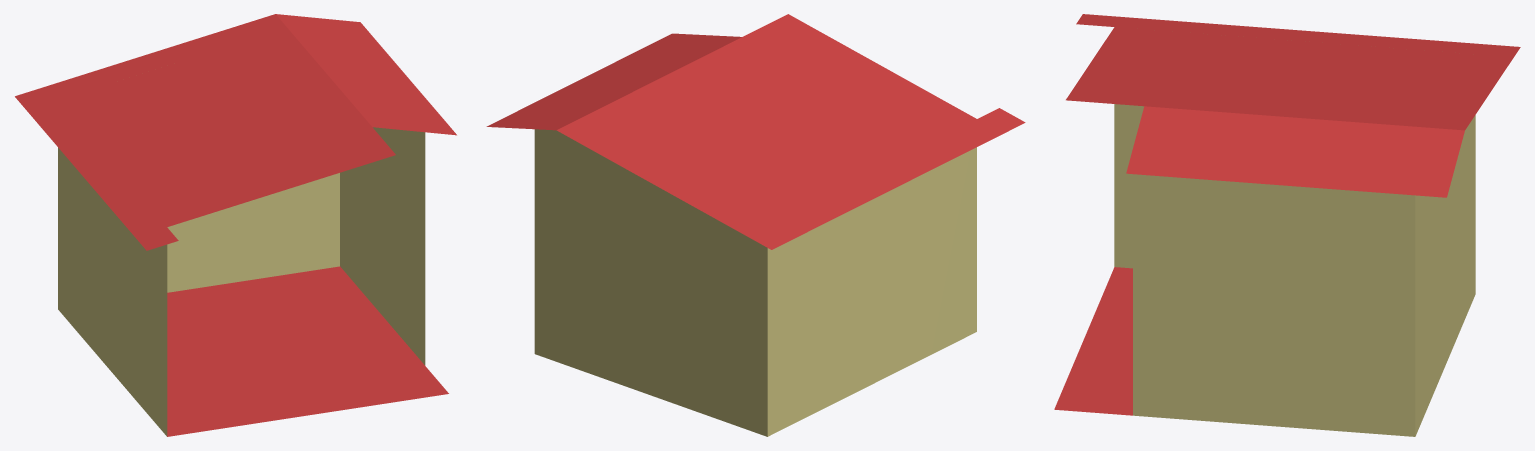
3 views of the same model, side by side, from view 1: azimuth 30°, elevation 25°; view 2: azimuth 150°, elevation 25°; view 3: azimuth 270°, elevation 25° (orthographic). The views are drawn at different scales.
Bounding box in the file's own units: 9.48 × 8.99 × 6.
